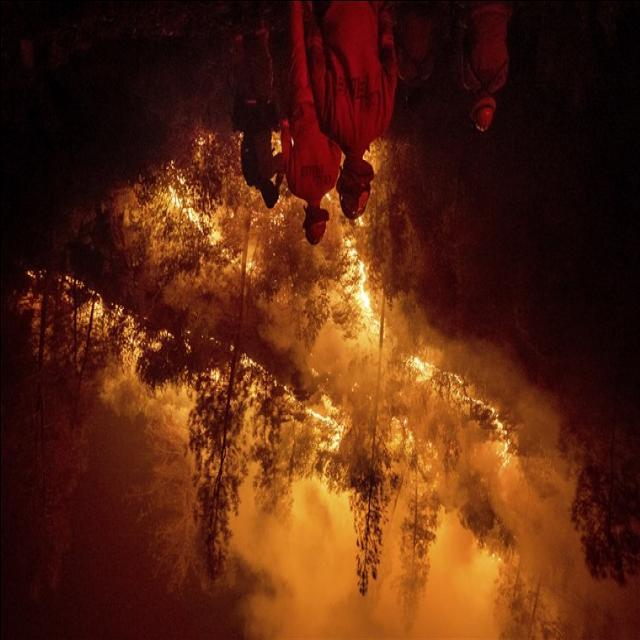Fire: (26, 130, 498, 550)
